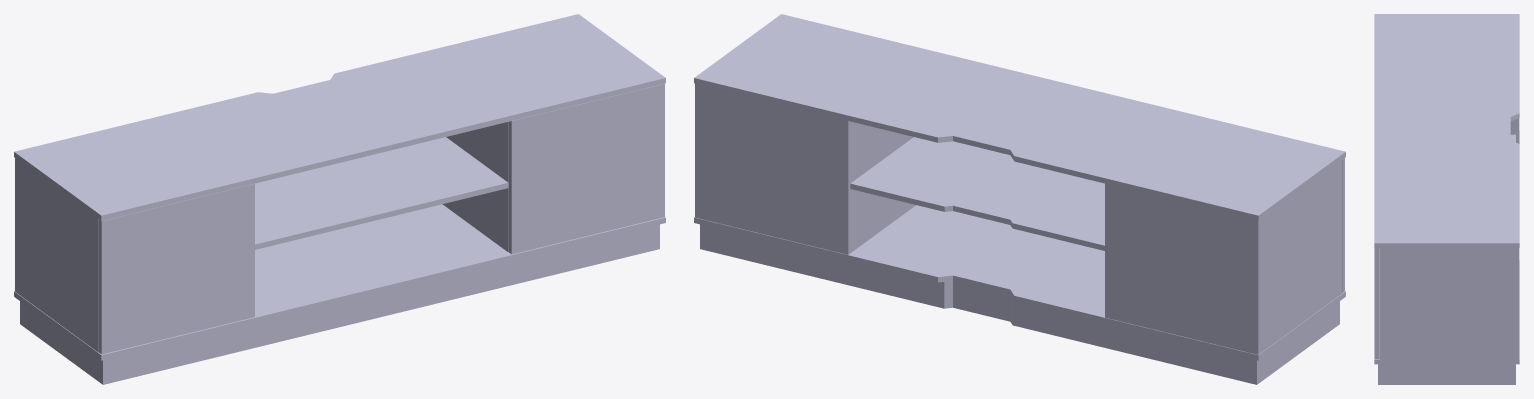
File: tvboard.gltf
3 views of the same model, side by side, from view 1: azimuth 30°, elevation 25°; view 2: azimuth 150°, elevation 25°; view 3: azimuth 270°, elevation 25° (orthographic). The views are drawn at different scales.
Parts seen in each view (by area): view 1: tvboard_clone; view 2: tvboard_clone; view 3: tvboard_clone.
Boxes of the visible parts, x1,y1,x2,y2 form: tvboard_clone: (14, 14, 665, 384); tvboard_clone: (694, 14, 1345, 384); tvboard_clone: (1374, 14, 1519, 384).
Size of the model in its own units: 1.1 by 0.32 by 0.295.
